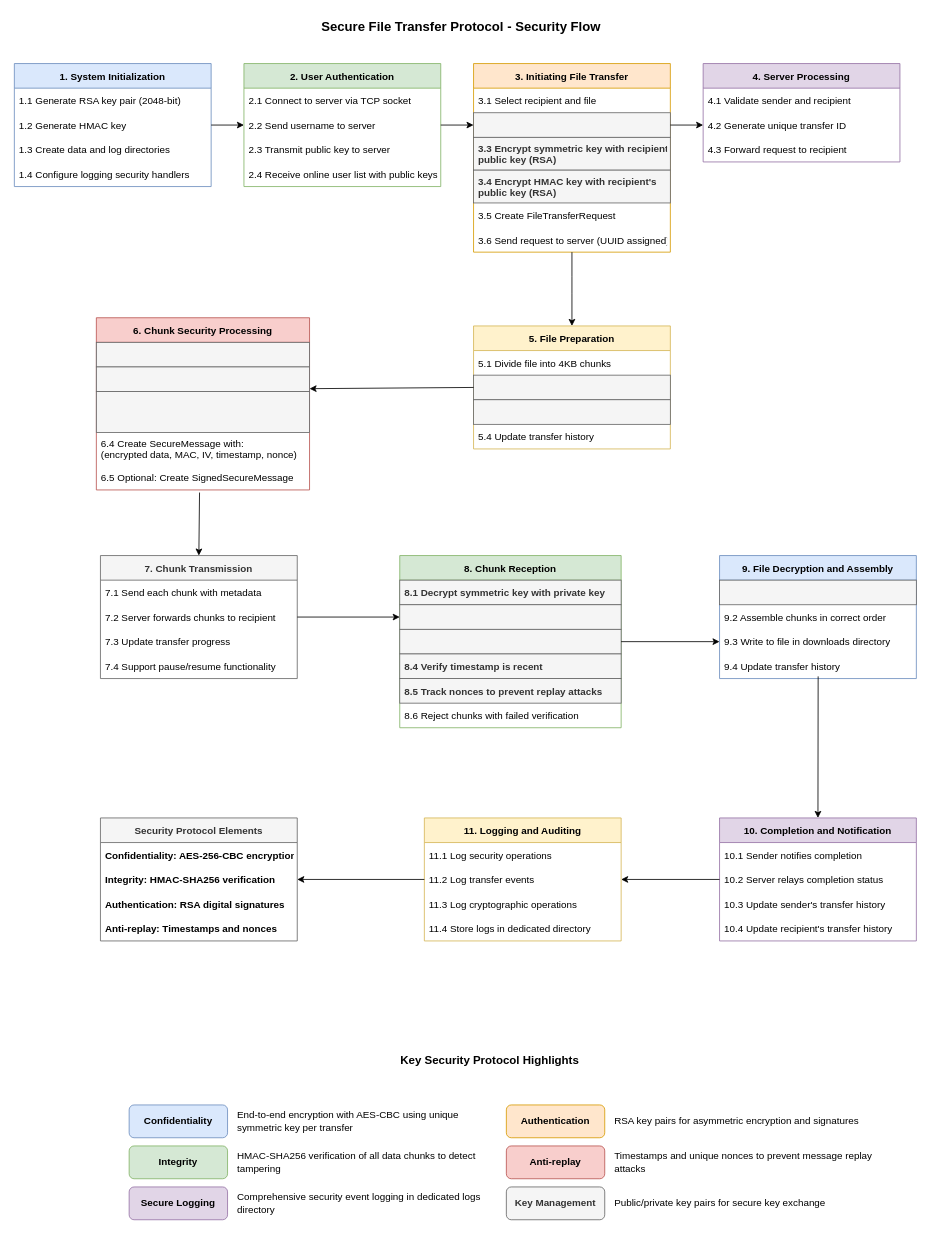
The diagram is 947 pixels wide and 1234 high, and some of its shapes have lost their labels. Here are the shapes that lost their labels. From the top down, the centre of each, then its label:
At (571,124): "3.2 Generate AES symmetric key".
At (203,354): "6.1 Generate timestamp for each chunk".
At (203,379): "6.2 Generate unique nonce (UUID)".
At (571,387): "5.2 Generate random IV for each chunk".
At (203,412): "6.3 Calculate HMAC over: (encrypted data + IV + timestamp + nonce)".
At (571,411): "5.3 Encrypt chunks with AES-CBC".
At (817,592): "9.1 Decrypt each chunk with AES-CBC using IV + symmetric key".
At (510,616): "8.2 Decrypt HMAC key with private key".
At (510,641): "8.3 Verify HMAC of each chunk".
